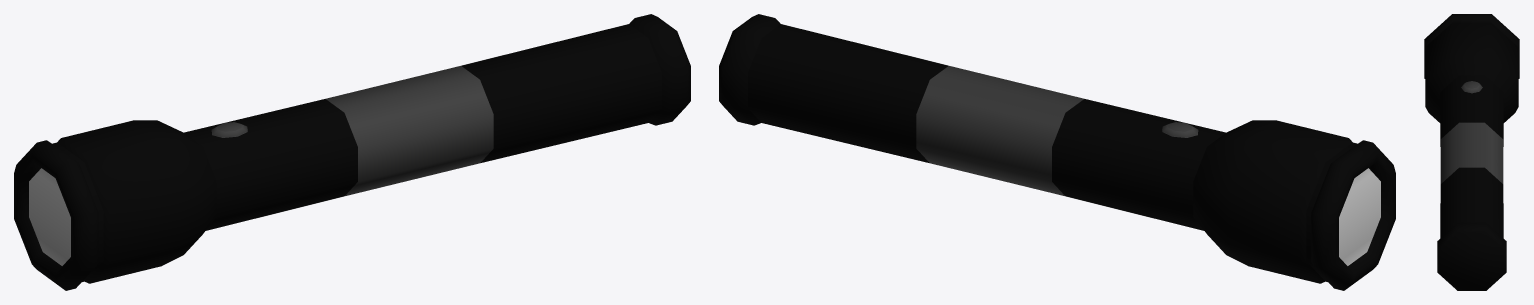
File: x_flashlightweapon_pickup.fbx
The picture shows the model from 3 angles, left to right: view 1: azimuth 30°, elevation 25°; view 2: azimuth 150°, elevation 25°; view 3: azimuth 270°, elevation 25°; orthographic projection. The views are drawn at different scales.
Parts seen in each view (by area): view 1: x_flashlightweapon_pickup_baked; view 2: x_flashlightweapon_pickup_baked; view 3: x_flashlightweapon_pickup_baked.
Boxes of the visible parts, x1,y1,x2,y2 form: x_flashlightweapon_pickup_baked: [14, 14, 690, 290]; x_flashlightweapon_pickup_baked: [719, 14, 1395, 290]; x_flashlightweapon_pickup_baked: [1424, 14, 1519, 290].
Bounding box in the file's own units: 0.3134 × 0.0611 × 0.0611.
